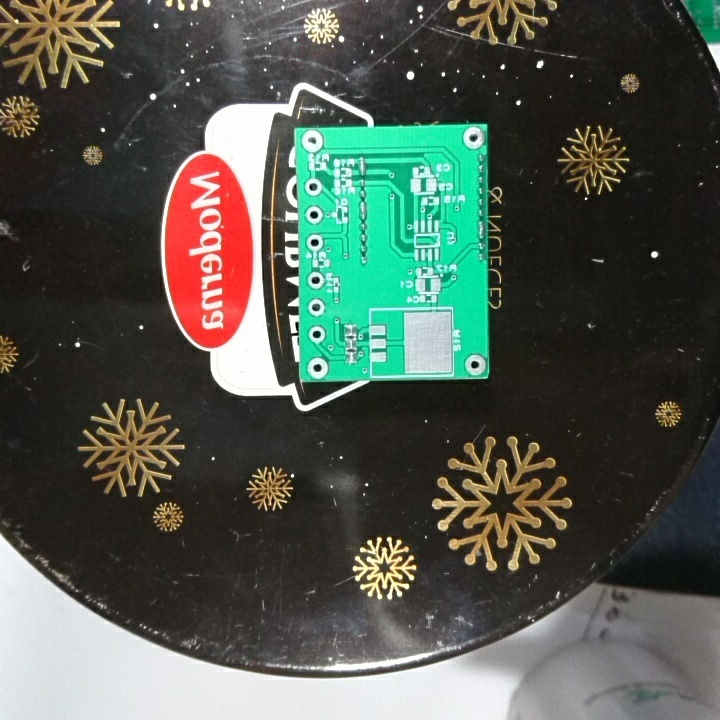F: (300, 129, 327, 155), (463, 350, 488, 378), (305, 355, 331, 380), (460, 125, 485, 150), (302, 203, 326, 228), (306, 323, 329, 346), (304, 297, 328, 319), (305, 268, 326, 292), (303, 175, 325, 197), (304, 231, 325, 252)
P: (356, 154, 371, 179), (356, 198, 370, 223), (475, 218, 486, 241)
